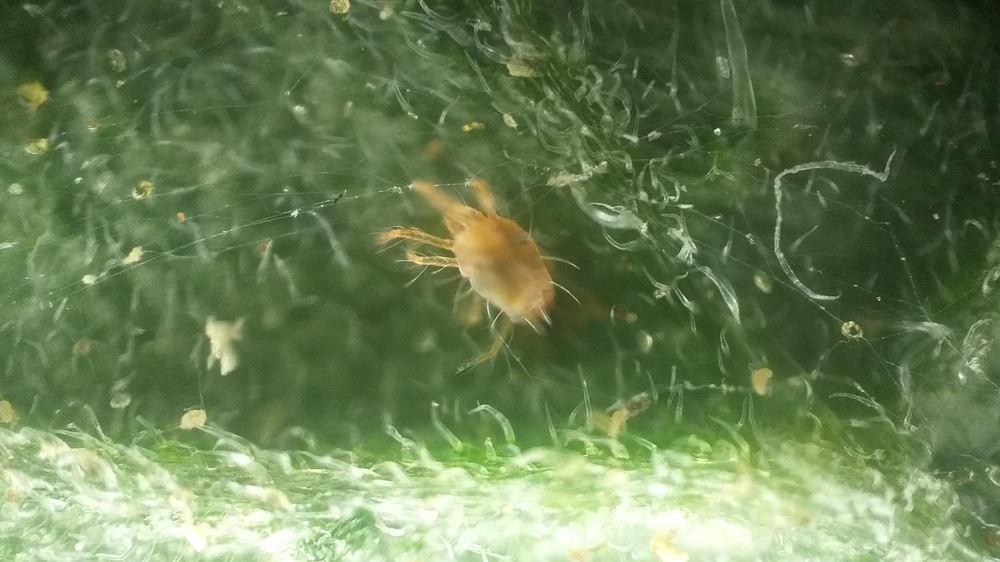Aracnido Rojo: (371, 162, 595, 384)
